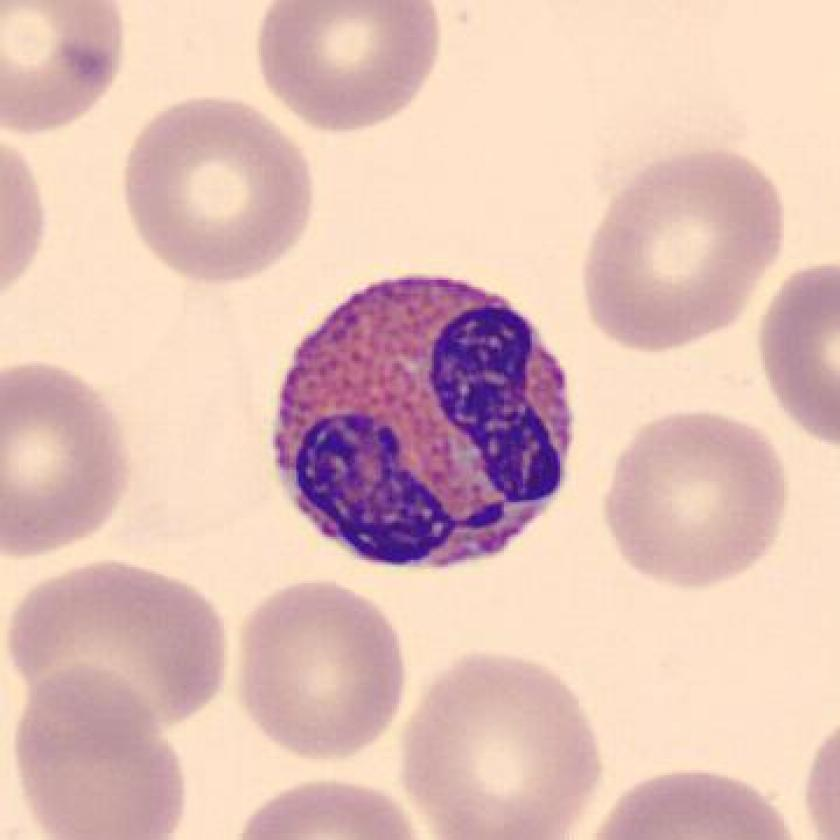eosinophil: (263, 267, 585, 580)
